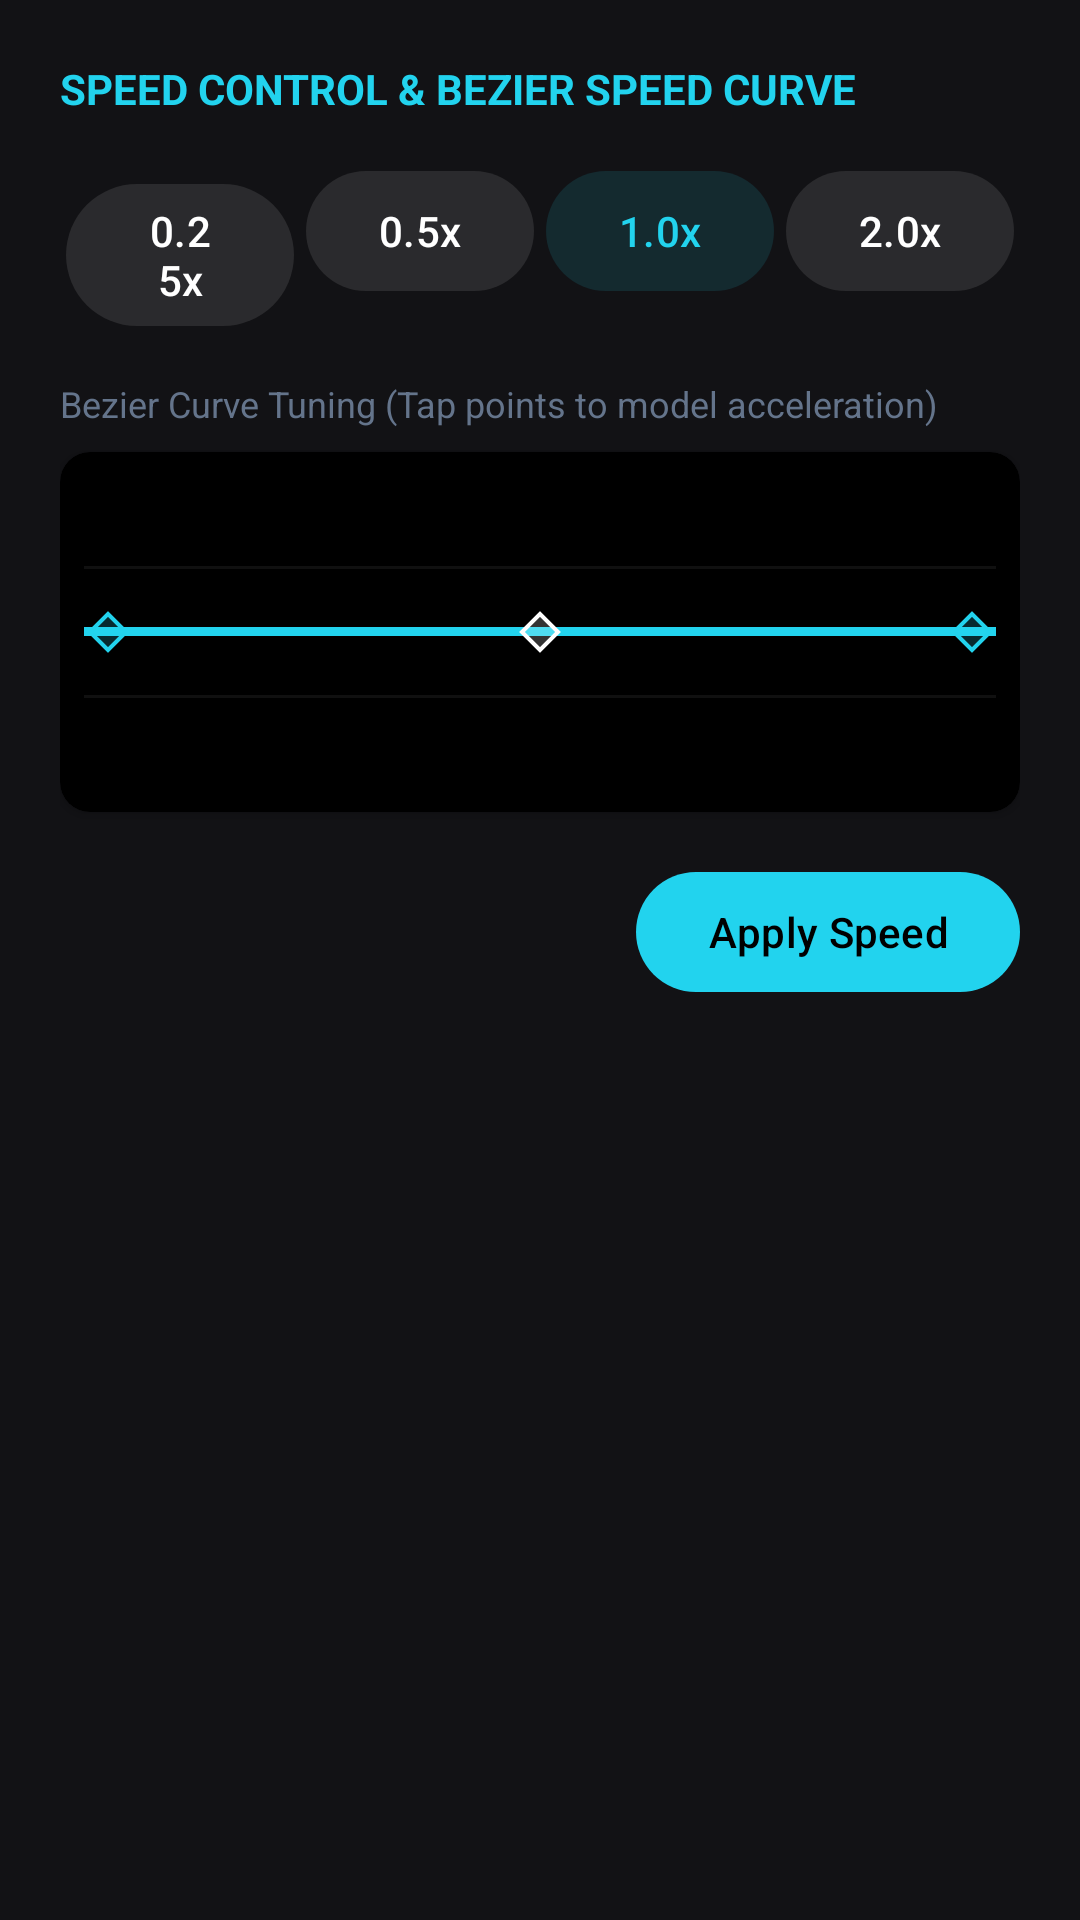

Where icons sit on this 1080 × 1920 app screen, as (x1, y1, x2, y2):
keyframe: (84, 611, 132, 653), (516, 611, 564, 653), (948, 611, 996, 653)
